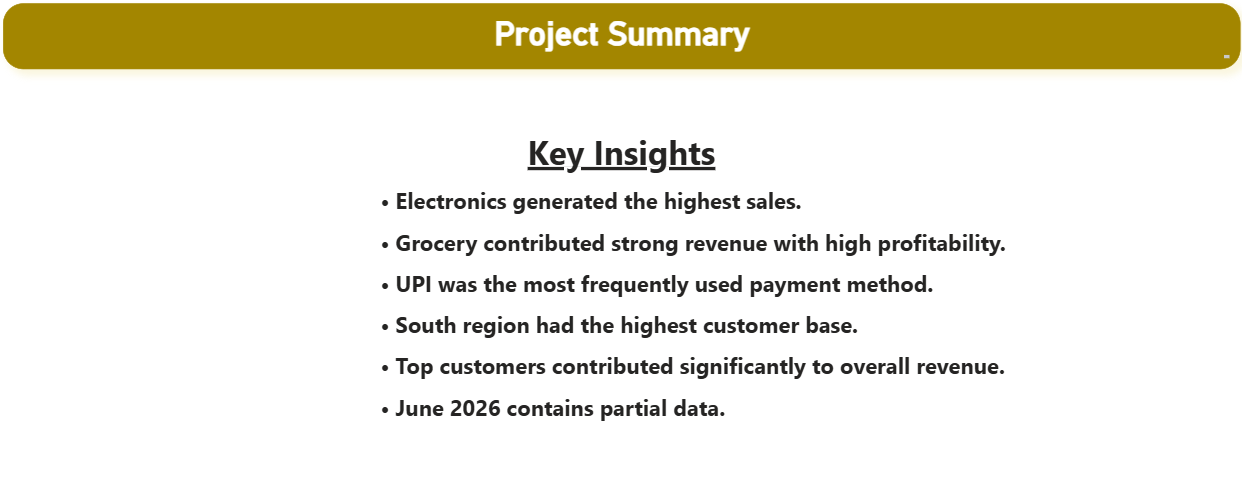

This screenshot's page, from the dashboard's own definition file:
{"tool":"powerbi","page":{"name":"Insights page","canvas":[1920,1080],"ordinal":3},"visuals":[{"type":"textbox","title":"Project Summary","box":[72,24,1800,96],"z":0},{"type":"textbox","box":[336,168,1272,552],"z":1}]}

Visuals, with their boxes on the page's 1920x1080 design canvas (x1, y1, x2, y2). These are canvas units, not pixel positions in the 1242x485 screenshot, which may show the page scaled, cropped or inside an application window:
"Project Summary" textbox: box(72, 24, 1872, 120)
textbox: box(336, 168, 1608, 720)
